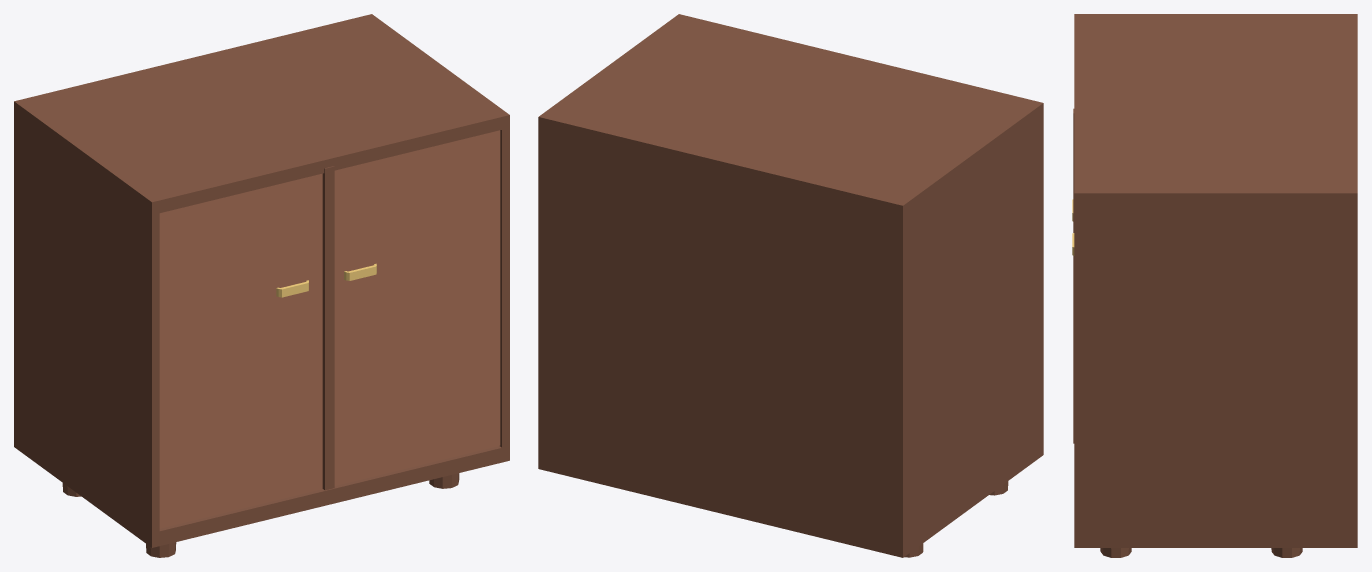
Rendered from шкаф1_3.fbx.
3 renders of one model, left to right at view 1: azimuth 30°, elevation 25°; view 2: azimuth 150°, elevation 25°; view 3: azimuth 270°, elevation 25°, orthographic. The views are drawn at different scales.
Visible parts, largest first — view 1: Cube.045; view 2: Cube.045; view 3: Cube.045.
Boxes of the visible parts, x1=… form: Cube.045: x1=14, y1=14, x2=509, y2=557; Cube.045: x1=538, y1=14, x2=1043, y2=557; Cube.045: x1=1072, y1=14, x2=1357, y2=557.
Bounding box in the file's own units: 540 × 536 × 363.
